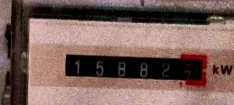1: (70, 56, 82, 75)
2: (158, 60, 170, 78)
5: (92, 59, 104, 76)
7: (180, 68, 192, 80)
8: (113, 59, 126, 77), (136, 59, 148, 78)
screen: (55, 42, 212, 93)
